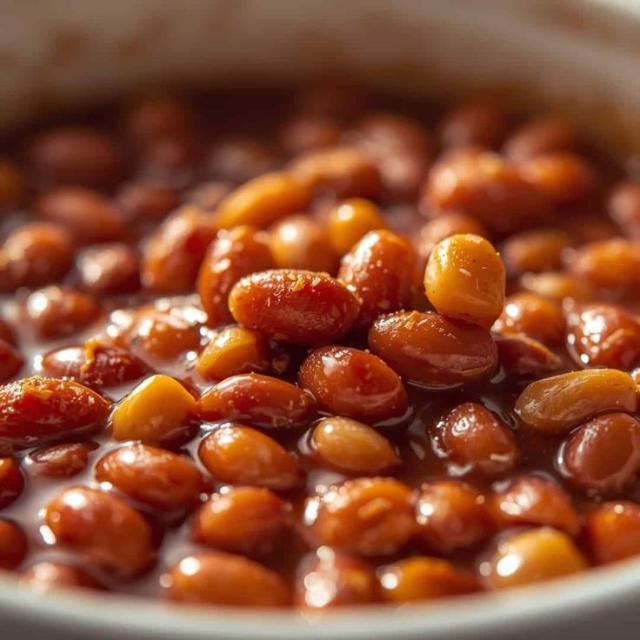beans: (422, 150, 547, 233), (46, 487, 154, 579), (229, 270, 359, 345), (369, 312, 497, 388), (311, 478, 416, 555), (299, 347, 406, 422), (515, 369, 637, 433), (198, 226, 274, 326), (425, 234, 506, 327), (339, 230, 415, 329), (0, 377, 110, 443), (350, 113, 433, 200), (95, 445, 204, 511), (163, 552, 290, 606), (199, 425, 300, 490), (141, 206, 215, 293), (194, 487, 288, 555), (559, 414, 639, 493), (433, 403, 519, 476), (485, 527, 586, 588), (199, 374, 315, 427), (111, 375, 197, 446), (416, 480, 493, 554), (29, 127, 122, 186), (214, 173, 311, 228), (41, 340, 148, 389), (493, 476, 580, 536), (34, 187, 125, 244), (312, 416, 400, 473), (296, 547, 378, 608), (567, 303, 639, 370), (0, 223, 74, 288), (290, 147, 381, 198), (380, 557, 479, 602), (119, 308, 200, 361), (569, 238, 639, 298), (520, 153, 599, 205), (23, 285, 99, 339), (270, 214, 339, 273), (196, 327, 269, 380), (494, 293, 565, 345), (123, 95, 193, 146), (585, 501, 639, 563), (503, 117, 577, 162), (327, 199, 387, 254), (502, 228, 572, 275), (137, 136, 201, 187), (419, 212, 488, 259), (77, 243, 139, 295), (207, 137, 278, 182), (356, 113, 432, 155), (440, 102, 509, 148), (295, 78, 369, 120), (372, 150, 431, 201), (494, 334, 561, 378), (27, 442, 98, 479), (20, 561, 101, 593), (280, 114, 342, 155), (116, 181, 180, 220), (557, 208, 619, 246), (520, 272, 596, 303), (607, 181, 639, 239), (184, 180, 233, 213), (0, 519, 27, 569), (0, 158, 25, 211), (0, 458, 24, 508), (0, 339, 24, 383), (0, 315, 16, 346)
